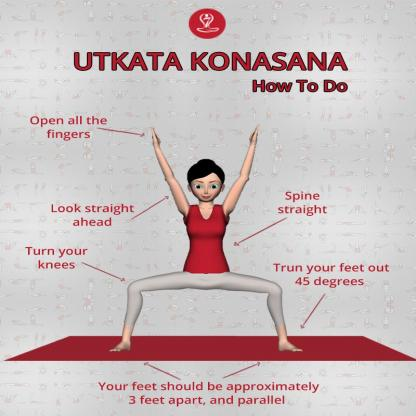godness: (98, 120, 319, 357)
